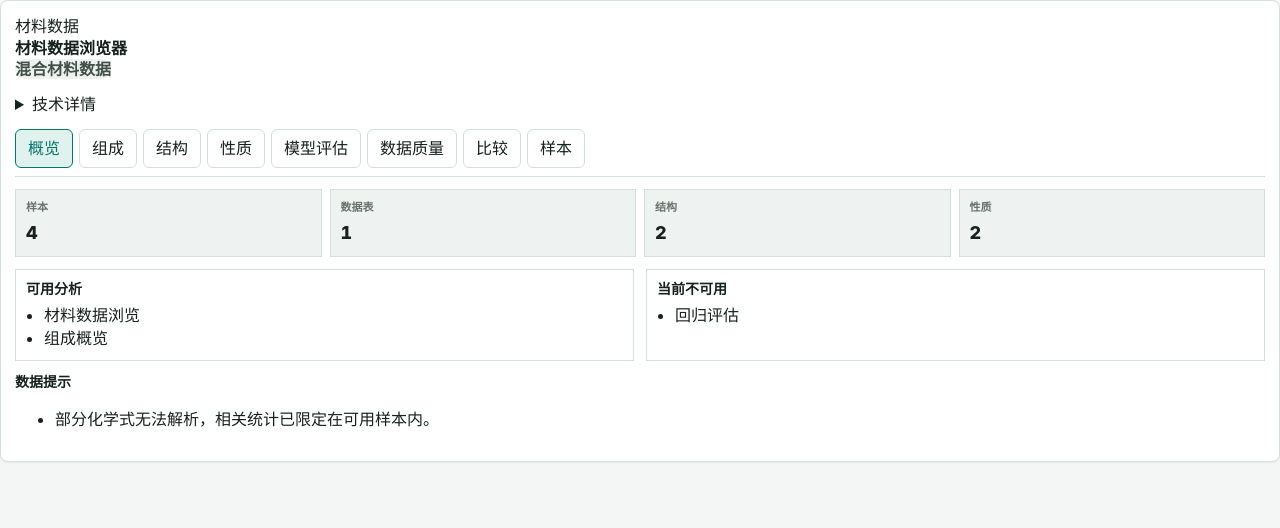
it: DatasetMaterialsExplorerPanel › keeps partial and empty capabilities explicit and accessible
Click the tab "组成" at (108, 148), box [79,129,137,168]
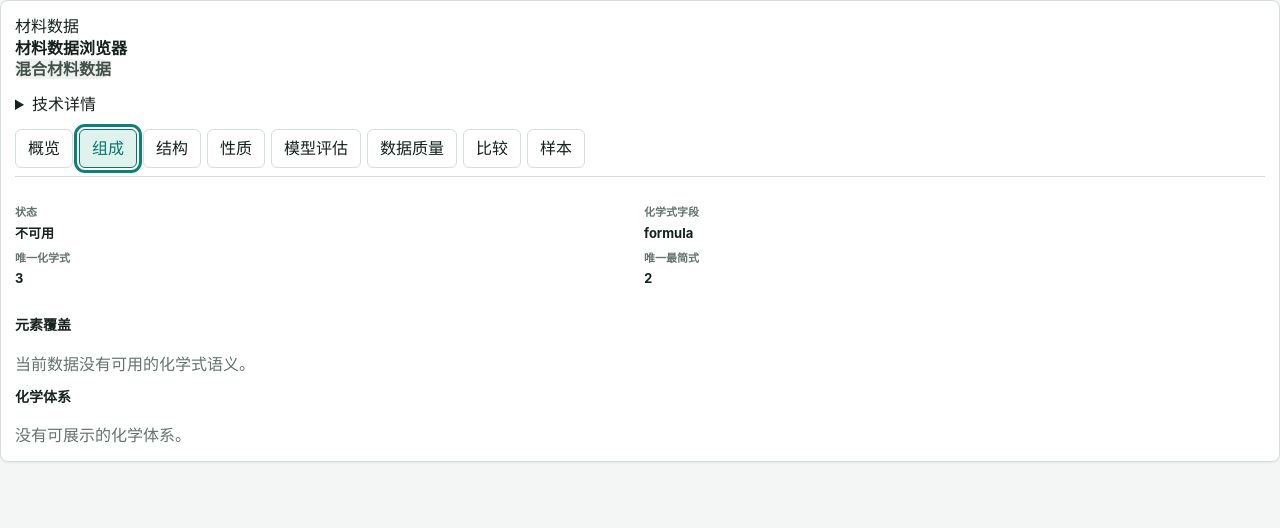
Result: the text "当前数据没有可用的化学式语义。" is shown at [15,354,255,374]
Click the tab "结构" at (172, 148), box [143,129,201,168]
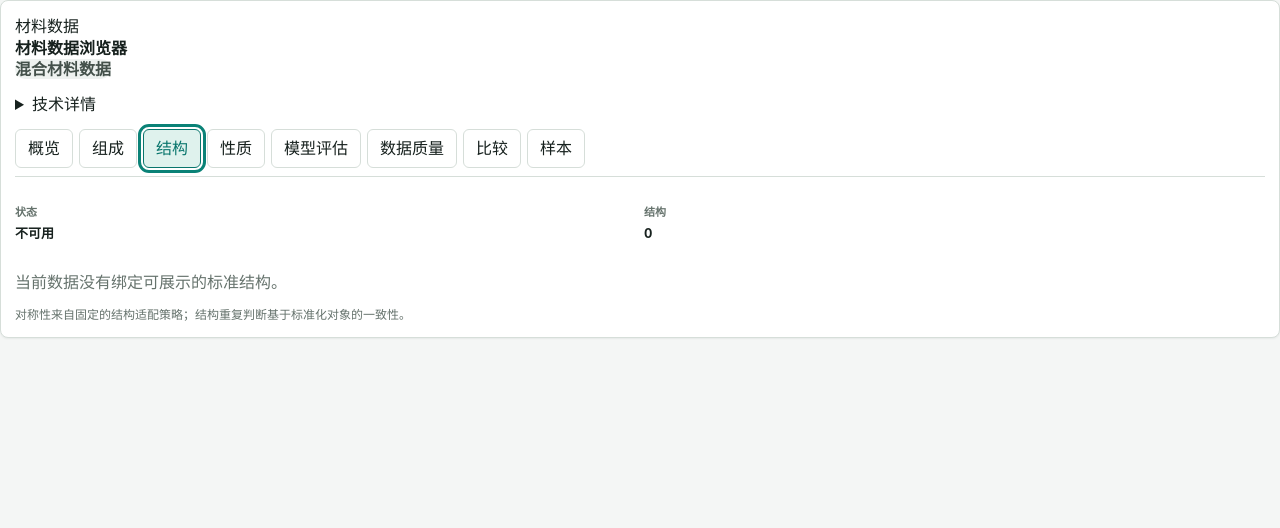
Result: the text "当前数据没有绑定可展示的标准结构。" is shown at [15,272,287,292]
Click the tab "性质" at (236, 148), box [207,129,265,168]
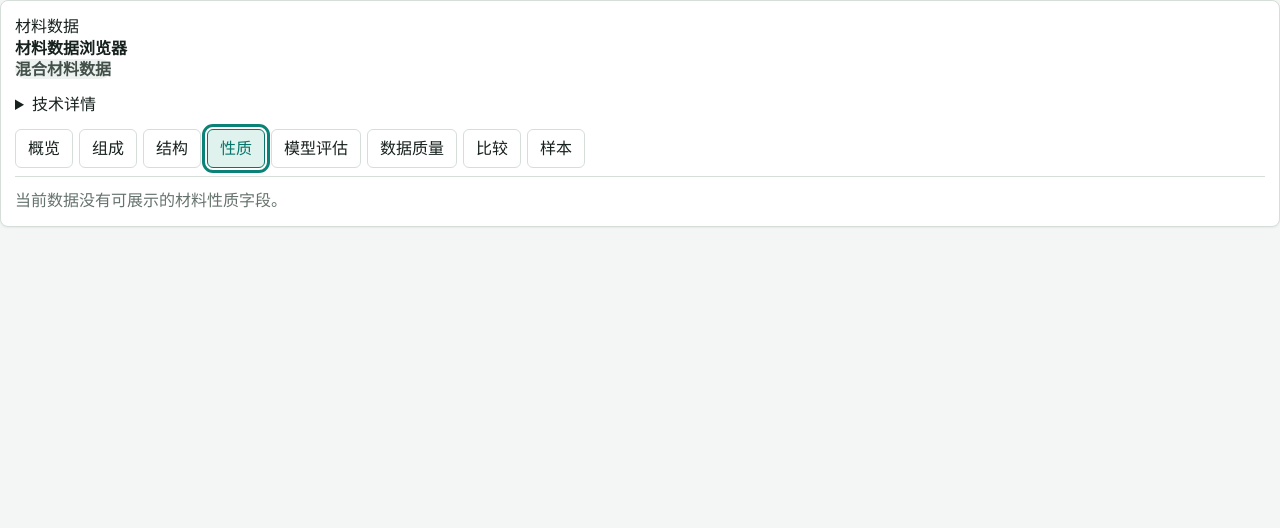
Result: the text "当前数据没有可展示的材料性质字段。" is shown at [15,190,287,210]
Click the tab "比较" at (492, 148), box [463,129,521,168]
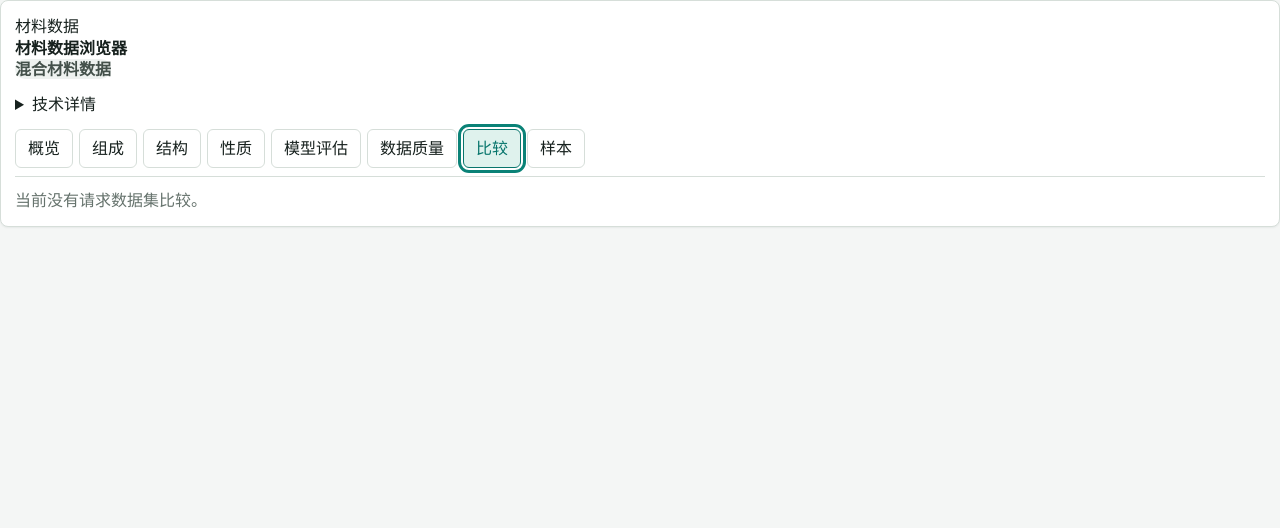
Result: the text "当前没有请求数据集比较。" is shown at [15,190,207,210]
Click the tab "模型评估" at (316, 148), box [271,129,361,168]
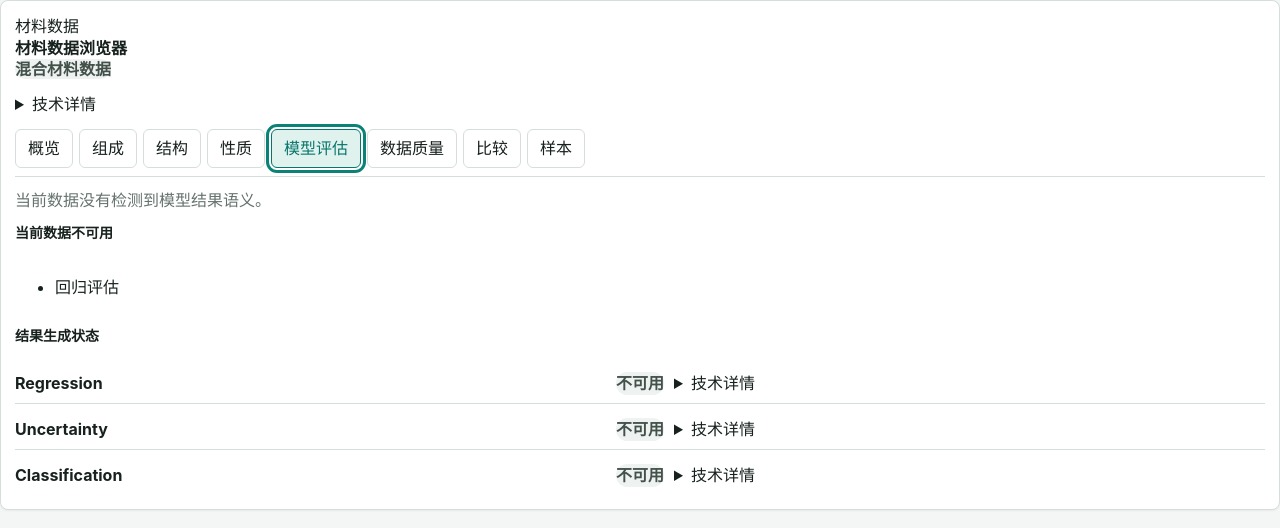
Result: the text "当前数据没有检测到模型结果语义。" is shown at [15,190,271,210]
